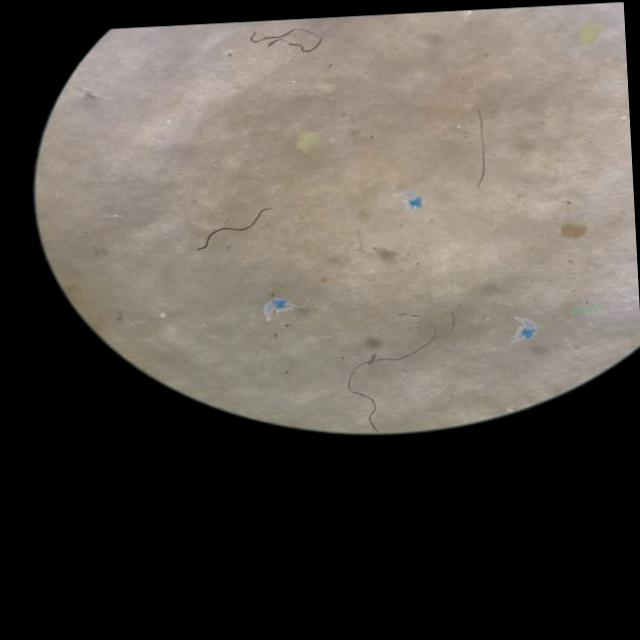fiber: (348, 334, 434, 432), (198, 209, 268, 250), (250, 29, 320, 53), (476, 112, 486, 187)
film: (263, 297, 292, 322), (518, 322, 536, 340), (405, 192, 421, 209)
fragment: (579, 26, 601, 45), (297, 134, 318, 152), (561, 224, 587, 238)
pellet: (164, 120, 172, 125), (160, 313, 166, 318)
